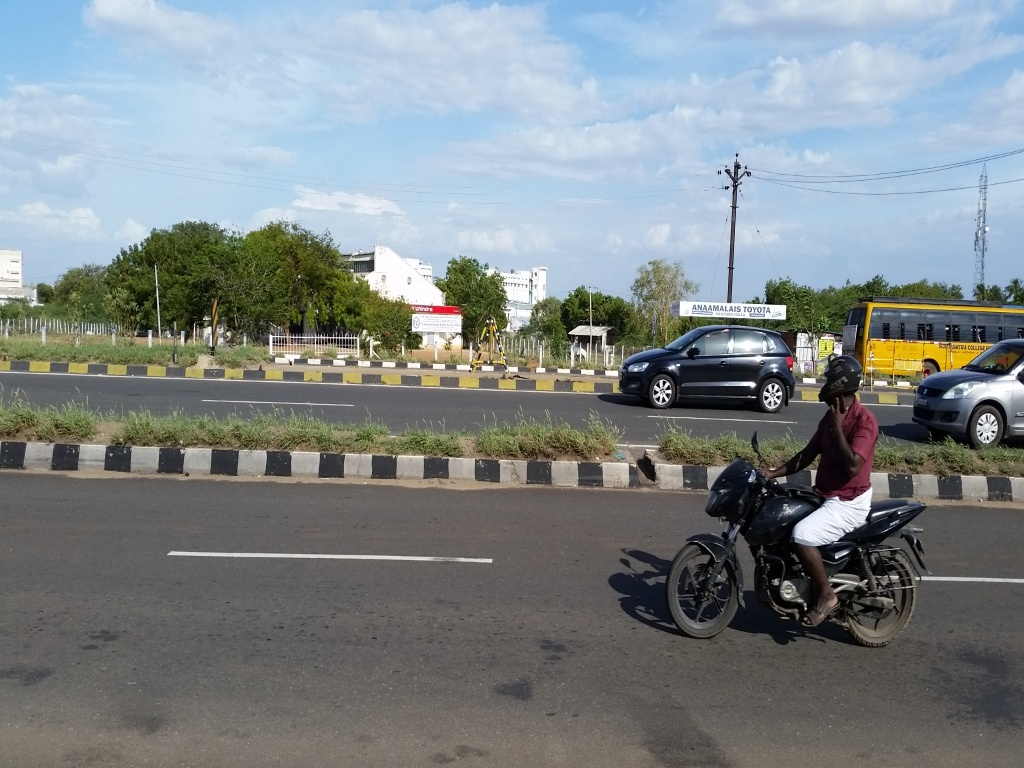biker: (642, 327, 978, 653)
helmet: (813, 350, 868, 422)
